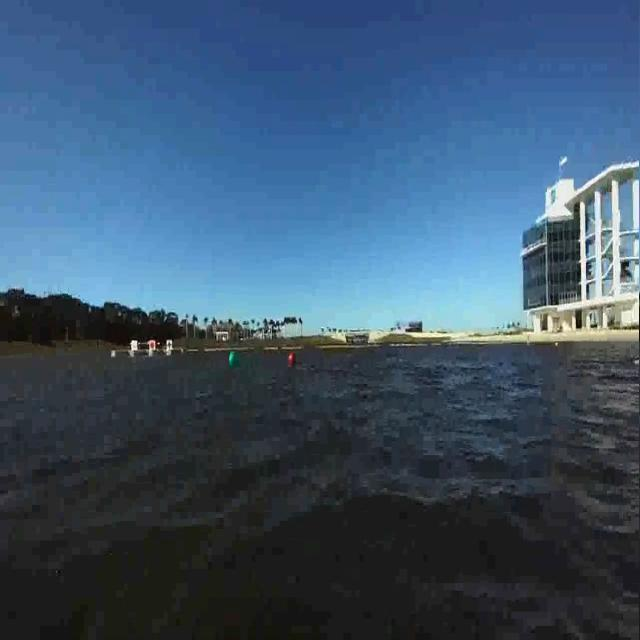green-buoy: (226, 348, 243, 371)
red-buoy: (288, 352, 295, 366)
